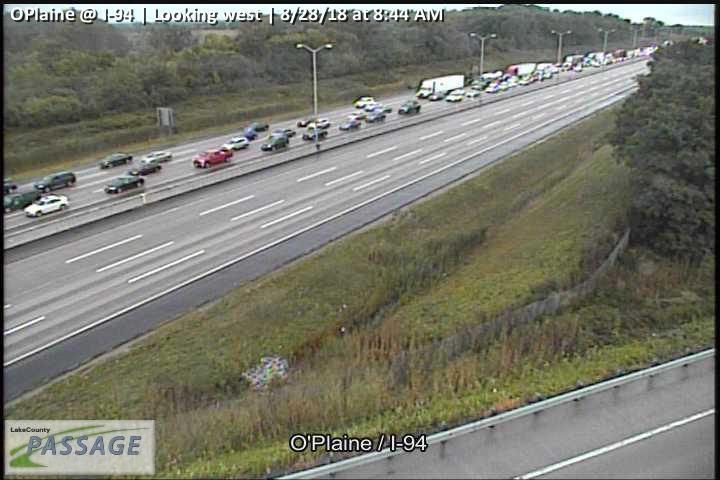SUV: (191, 146, 234, 169), (33, 171, 76, 193), (221, 135, 249, 151), (397, 100, 421, 116), (260, 137, 286, 151), (269, 127, 296, 139), (353, 95, 375, 107)
Sedan: (24, 195, 68, 218), (104, 173, 145, 194), (98, 152, 132, 168), (127, 163, 161, 176), (141, 151, 172, 165), (303, 128, 328, 142), (307, 116, 331, 129), (364, 109, 386, 123), (339, 118, 361, 130)
Truck: (417, 73, 464, 99)
